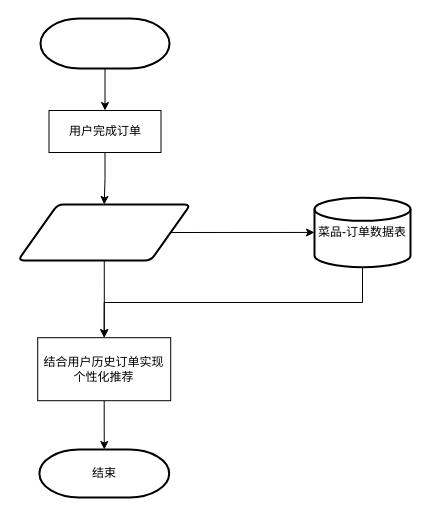
The diagram is 429 pixels wide and 515 high, and some of its shapes have lost their labels. Here are the shapes that lost their labels. From the top down, the box of each, then its label:
(39, 17, 170, 69): 开始
(16, 203, 191, 261): 用户订单存入数据库
